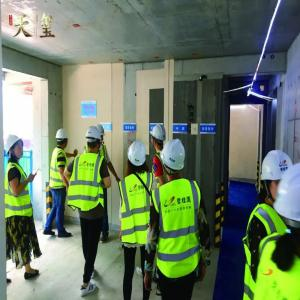white: (261, 149, 295, 203), (160, 139, 189, 180), (3, 130, 25, 165), (127, 141, 148, 176), (149, 124, 168, 150), (85, 126, 103, 153), (53, 127, 71, 152)
